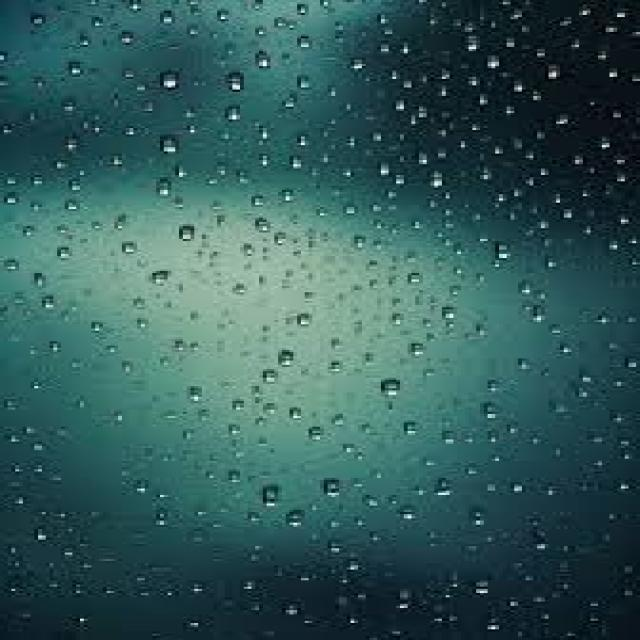raindrop: (150, 130, 192, 158), (376, 372, 414, 402), (217, 66, 257, 94), (253, 480, 288, 512), (154, 64, 192, 93), (217, 98, 255, 126), (166, 218, 203, 246), (315, 468, 349, 498), (280, 504, 310, 537), (476, 399, 514, 425), (299, 422, 335, 448), (144, 176, 181, 201), (144, 264, 177, 290)
